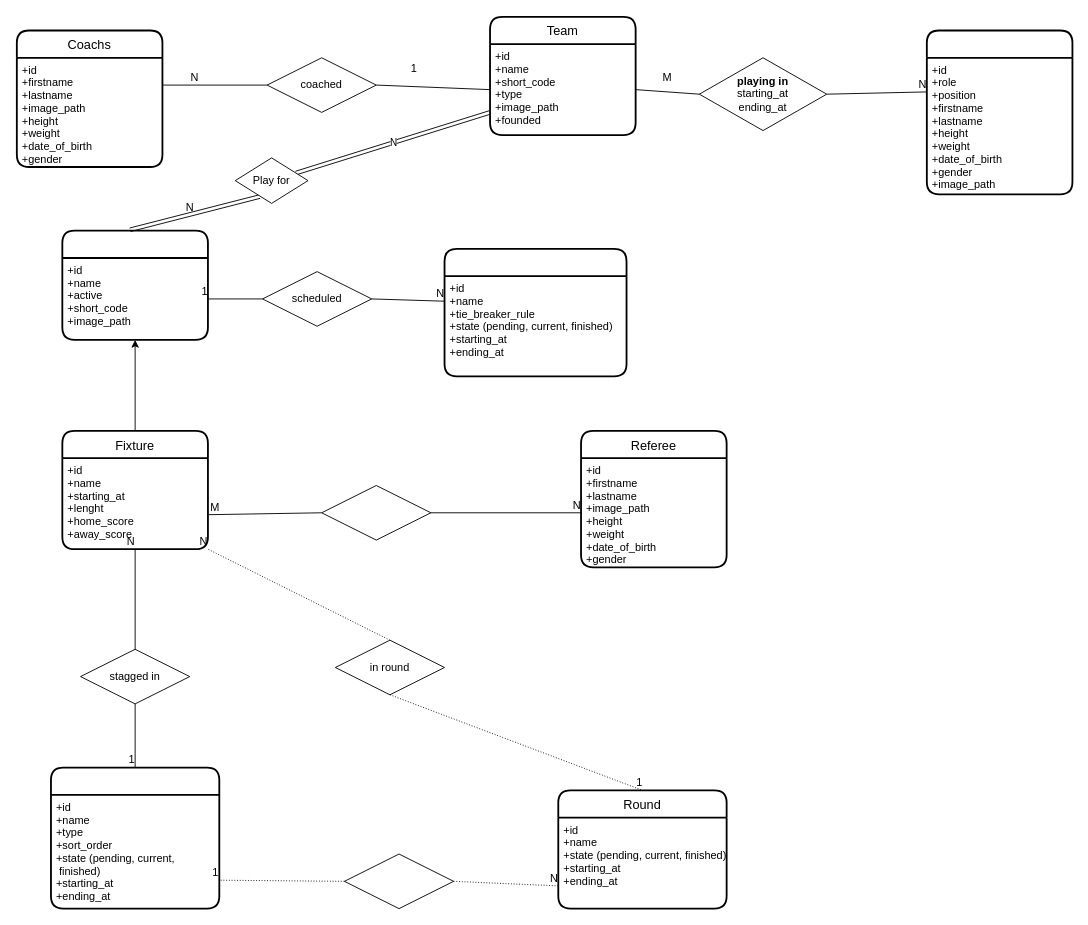
Image size: 1088x925. Some labels were removed from this diagram. Each missing label, with the box of its shape:
arbitrate: (321, 485, 431, 540)
League: (61, 229, 208, 340)
planned round: (344, 853, 454, 909)
Player: (925, 29, 1073, 195)
Season: (443, 248, 627, 377)
Stage: (50, 766, 220, 909)
